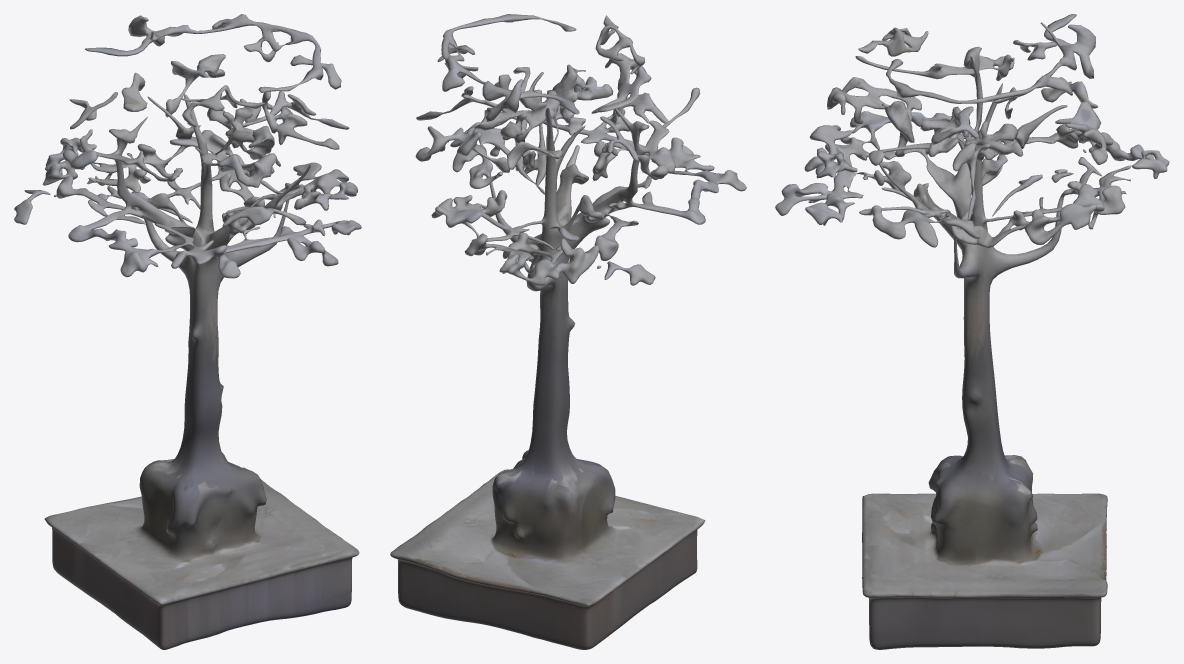
Rendered from Tree.fbx.
3 views of the same model, side by side, from view 1: azimuth 30°, elevation 25°; view 2: azimuth 150°, elevation 25°; view 3: azimuth 270°, elevation 25° (orthographic). The views are drawn at different scales.
Visible parts, largest first — view 1: Tree; view 2: Tree; view 3: Tree.
Boxes of the visible parts, x1,y1,x2,y2 form: Tree: (14,14,361,649); Tree: (390,14,746,649); Tree: (775,14,1169,649).
Bounding box in the file's own units: 78.19 × 143 × 89.82.
Materials: 1 (1 with a texture image).
